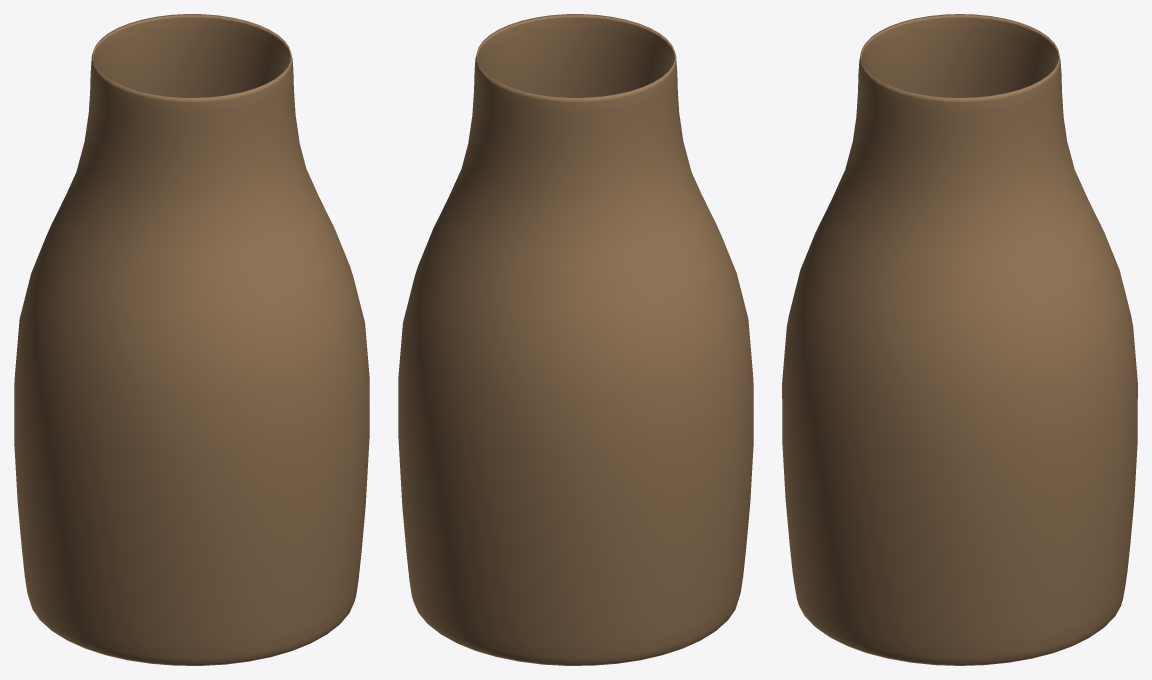
Rendered from Poterie5.fbx.
3 views of the same model, side by side, from view 1: azimuth 30°, elevation 25°; view 2: azimuth 150°, elevation 25°; view 3: azimuth 270°, elevation 25° (orthographic).
Parts seen in each view (by area): view 1: polySurface34; view 2: polySurface34; view 3: polySurface34.
Boxes of the visible parts, left/top/right/bottom form: polySurface34: left=14, top=14, right=369, bottom=665; polySurface34: left=398, top=14, right=753, bottom=665; polySurface34: left=782, top=14, right=1137, bottom=665.
Bounding box in the file's own units: 0.2881 × 0.4881 × 0.2879.
